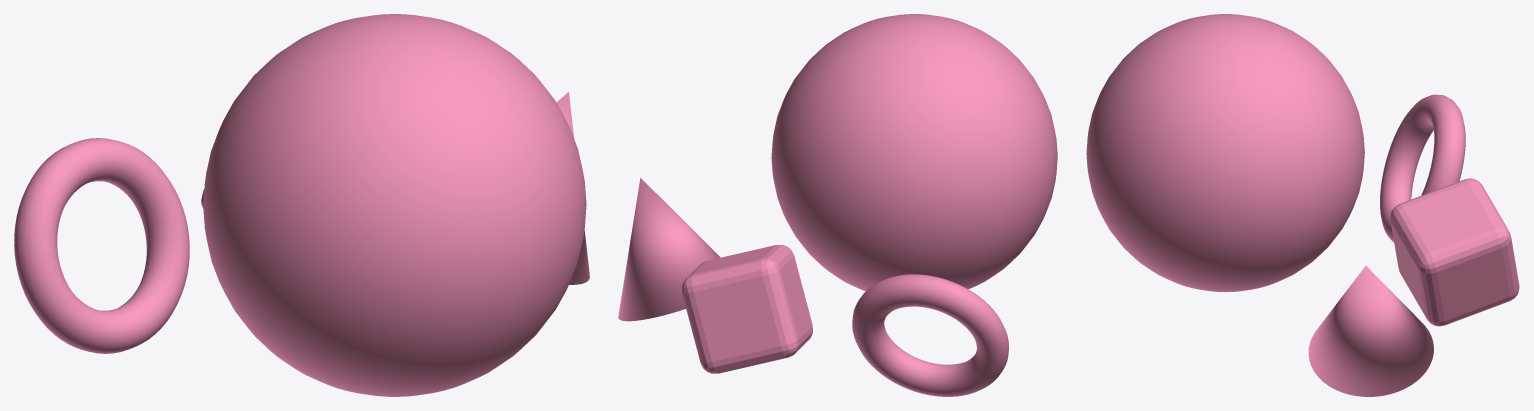
3 renders of one model, left to right at view 1: azimuth 30°, elevation 25°; view 2: azimuth 150°, elevation 25°; view 3: azimuth 270°, elevation 25°, orthographic. The views are drawn at different scales.
Parts seen in each view (by area): view 1: G08_0_sphere.001, G08_1_torus, G08_3_cone; view 2: G08_0_sphere.001, G08_2_cube, G08_1_torus, G08_3_cone; view 3: G08_0_sphere.001, G08_2_cube, G08_3_cone, G08_1_torus.
Part boxes in pixels (left/top/right/bottom): G08_0_sphere.001: left=203, top=14, right=586, bottom=396; G08_1_torus: left=14, top=138, right=189, bottom=353; G08_3_cone: left=556, top=92, right=589, bottom=284; G08_0_sphere.001: left=771, top=14, right=1057, bottom=291; G08_2_cube: left=681, top=245, right=812, bottom=373; G08_1_torus: left=852, top=274, right=1008, bottom=396; G08_3_cone: left=618, top=178, right=720, bottom=321; G08_0_sphere.001: left=1086, top=14, right=1364, bottom=292; G08_2_cube: left=1390, top=178, right=1519, bottom=326; G08_3_cone: left=1308, top=266, right=1433, bottom=396; G08_1_torus: left=1380, top=94, right=1465, bottom=242.
Size of the model in its own units: 3.62 by 2.42 by 3.51.
